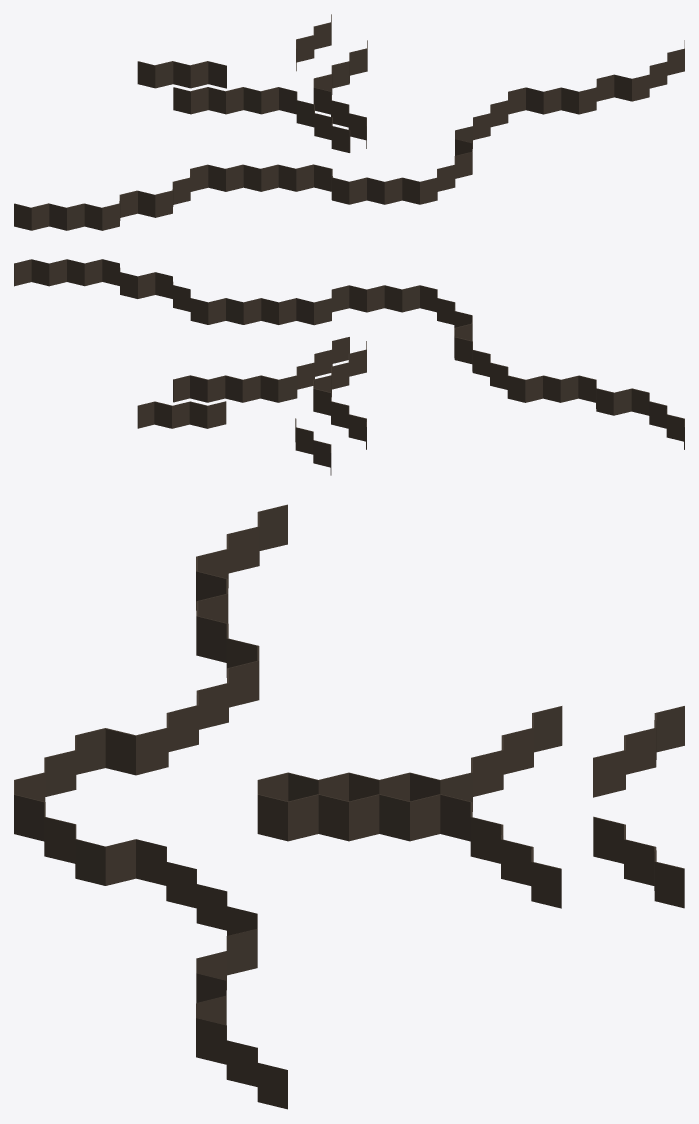
File: Stage1InviWalls.fbx
The picture shows the model from 3 angles, top to bottom: view 1: azimuth 30°, elevation 25°; view 2: azimuth 150°, elevation 25°; view 3: azimuth 270°, elevation 25°; orthographic projection. The views are drawn at different scales.
Parts seen in each view (by area): view 1: Inviwalls3, Inviwalls1, Inviwalls2, Inviwalls4, Inviwalls5; view 2: Inviwalls3, Inviwalls2, Inviwalls1, Inviwalls5, Inviwalls4; view 3: Inviwalls3, Inviwalls2, Inviwalls1, Inviwalls4, Inviwalls5.
Part boxes in pixels (<box>): Inviwalls3: <box>14,40,684,230</box>; Inviwalls1: <box>173,87,350,152</box>; Inviwalls2: <box>313,40,367,148</box>; Inviwalls4: <box>137,61,226,88</box>; Inviwalls5: <box>296,14,331,71</box>; Inviwalls3: <box>14,259,684,449</box>; Inviwalls2: <box>173,337,349,402</box>; Inviwalls1: <box>313,341,366,449</box>; Inviwalls5: <box>137,401,226,428</box>; Inviwalls4: <box>295,418,331,475</box>; Inviwalls3: <box>14,504,287,1109</box>; Inviwalls2: <box>257,794,561,908</box>; Inviwalls1: <box>257,706,562,811</box>; Inviwalls4: <box>593,706,684,797</box>; Inviwalls5: <box>593,816,684,908</box>.
Bounding box in the file's own units: 353 × 11.44 × 177.
